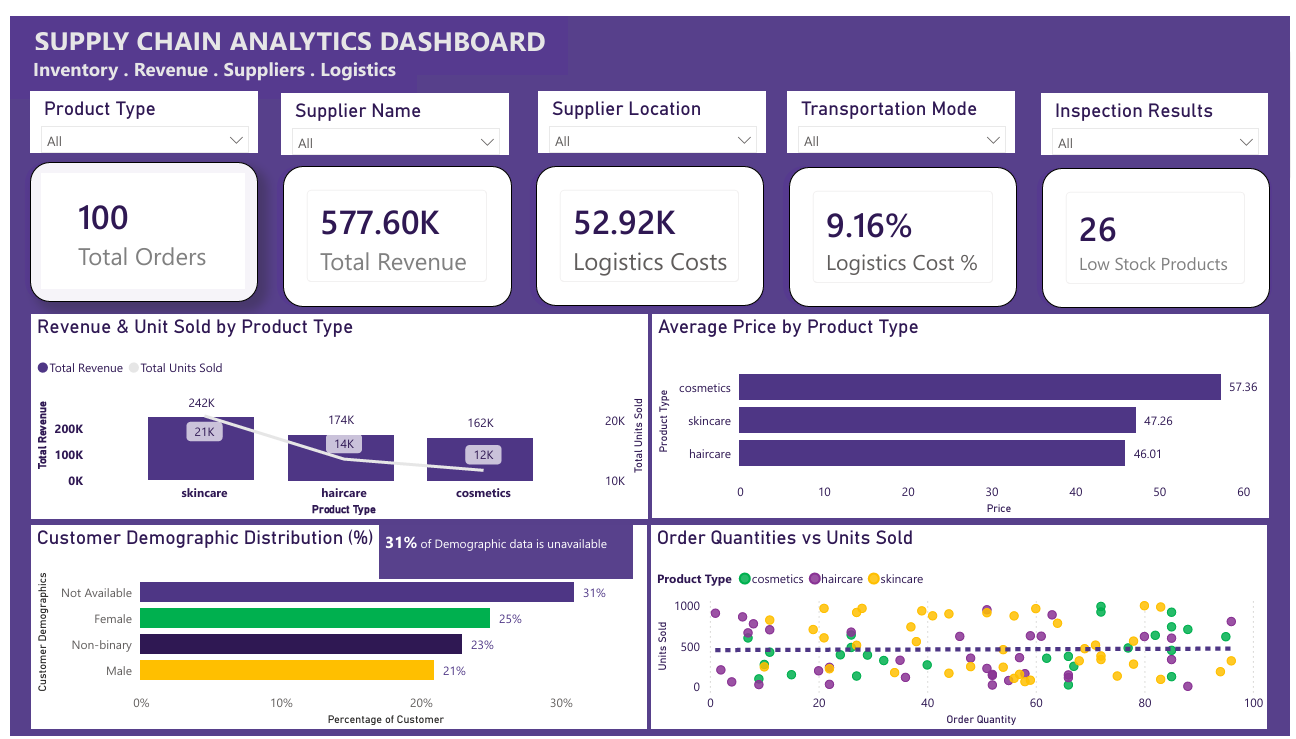

The page's visual inventory and layout, read from the dashboard file:
{"tool":"powerbi","page":{"name":"Executive Overview","canvas":[1280,720],"ordinal":0},"visuals":[{"type":"slicer","fields":{"Values":["supplychainanalytics supply_chain_data.ProductType"]},"box":[20.1,75.3,227.8,62.3],"z":0,"group":"g2"},{"type":"group","id":"g1","title":"Group 1","box":[14.2,145.4,1246.5,146],"z":0},{"type":"shape","box":[519.4,151.2,235,140.2],"z":500,"group":"g1"},{"type":"textbox","box":[0,0,557.9,58.6],"z":1000},{"type":"slicer","fields":{"Values":["supplychainanalytics supply_chain_data.SupplierName"]},"box":[271.3,77.2,227.8,62.3],"z":1000,"group":"g2"},{"type":"textbox","box":[0,34.2,406.6,48.8],"z":2000},{"type":"slicer","fields":{"Values":["supplychainanalytics supply_chain_data.SupplierLocation"]},"box":[528.3,75.3,227.8,62.3],"z":2000,"group":"g2"},{"type":"shape","box":[1025.7,151.2,235,140.2],"z":2000,"group":"g1"},{"type":"group","id":"g2","title":"Group 2","box":[20.1,75.3,1238.5,64.3],"z":3000},{"type":"slicer","fields":{"Values":["supplychainanalytics supply_chain_data.TransportationMode"]},"box":[777.6,75.3,227.8,62.3],"z":3000,"group":"g2"},{"type":"shape","box":[266.1,149.9,235.2,140.5],"z":3000,"group":"g1"},{"type":"slicer","fields":{"Values":["supplychainanalytics supply_chain_data.InspectionResults"]},"box":[1030.7,77.2,227.8,62.3],"z":4000,"group":"g2"},{"type":"shape","box":[772.7,149.8,235.2,140.5],"z":4000,"group":"g1"},{"type":"lineClusteredColumnComboChart","title":" Revenue & Unit Sold by Product Type","fields":{"Category":["supplychainanalytics supply_chain_data.ProductType"],"Y":["supplychainanalytics supply_chain_data.Total Revenue"],"Y2":["supplychainanalytics supply_chain_data.Total Units Sold"]},"box":[21.1,297.7,616.5,204.9],"z":4000},{"type":"shape","box":[14.2,145.4,235.2,140.5],"z":5000,"group":"g1"},{"type":"clusteredBarChart","title":"Customer Demographic Distribution  (%)","fields":{"Category":["supplychainanalytics supply_chain_data.CustomerDemographics"],"Y":["supplychainanalytics supply_chain_data.Customer Demographic %"]},"box":[21.1,508.5,616,204],"z":5000},{"type":"scatterChart","title":"Order Quantities vs Units Sold","fields":{"X":["Avg(supplychainanalytics supply_chain_data.OrderQuantities)"],"Series":["supplychainanalytics supply_chain_data.ProductType"],"Category":["supplychainanalytics supply_chain_data.SKU"],"Y":["Avg(supplychainanalytics supply_chain_data.NumProductsSold)"]},"box":[640.9,509.1,616.5,204],"z":6000},{"type":"clusteredBarChart","title":"Average Price by Product Type","fields":{"Category":["supplychainanalytics supply_chain_data.ProductType"],"Y":["Avg(supplychainanalytics supply_chain_data.Price)"]},"box":[642.5,297.7,616.5,204],"z":7000},{"type":"textbox","box":[369.2,509.1,253.7,53.7],"z":10000},{"type":"cardVisual","fields":{"Data":["supplychainanalytics supply_chain_data.Total Orders"]},"box":[19.4,145.4,228,140.5],"z":12500,"group":"g1"},{"type":"cardVisual","fields":{"Data":["supplychainanalytics supply_chain_data.Total Revenue"]},"box":[272.6,149.9,228.7,140.5],"z":13000,"group":"g1"},{"type":"cardVisual","fields":{"Data":["supplychainanalytics supply_chain_data.Logistics Cost %"]},"box":[777.9,150.5,228,140],"z":13500,"group":"g1"},{"type":"cardVisual","fields":{"Data":["supplychainanalytics supply_chain_data.Low Stock Products"]},"box":[1031.5,151.2,227.8,140.2],"z":14000,"group":"g1"},{"type":"cardVisual","fields":{"Data":["Sum(supplychainanalytics supply_chain_data.LogisticsCosts)"]},"box":[525.3,149.3,227.8,140.2],"z":14500,"group":"g1"}]}

Visuals, with their boxes in screenshot pixels (x1, y1, x2, y2), scaled from the page's 1280x720 canvas onto the 1296x739 screenshot:
slicer - supplychainanalytics supply_chain_data.ProductType: box=[20, 77, 251, 141]
"Group 1" group: box=[14, 149, 1276, 299]
shape: box=[526, 155, 764, 299]
textbox: box=[0, 0, 565, 60]
slicer - supplychainanalytics supply_chain_data.SupplierName: box=[275, 79, 505, 143]
textbox: box=[0, 35, 412, 85]
slicer - supplychainanalytics supply_chain_data.SupplierLocation: box=[535, 77, 766, 141]
shape: box=[1039, 155, 1276, 299]
"Group 2" group: box=[20, 77, 1274, 143]
slicer - supplychainanalytics supply_chain_data.TransportationMode: box=[787, 77, 1018, 141]
shape: box=[269, 154, 508, 298]
slicer - supplychainanalytics supply_chain_data.InspectionResults: box=[1044, 79, 1274, 143]
shape: box=[782, 154, 1020, 298]
" Revenue & Unit Sold by Product Type" lineClusteredColumnComboChart: box=[21, 306, 646, 516]
shape: box=[14, 149, 253, 293]
"Customer Demographic Distribution  (%)" clusteredBarChart: box=[21, 522, 645, 731]
"Order Quantities vs Units Sold" scatterChart: box=[649, 523, 1273, 732]
"Average Price by Product Type" clusteredBarChart: box=[651, 306, 1275, 515]
textbox: box=[374, 523, 631, 578]
cardVisual - supplychainanalytics supply_chain_data.Total Orders: box=[20, 149, 250, 293]
cardVisual - supplychainanalytics supply_chain_data.Total Revenue: box=[276, 154, 508, 298]
cardVisual - supplychainanalytics supply_chain_data.Logistics Cost %: box=[788, 154, 1018, 298]
cardVisual - supplychainanalytics supply_chain_data.Low Stock Products: box=[1044, 155, 1275, 299]
cardVisual - Sum(supplychainanalytics supply_chain_data.LogisticsCosts): box=[532, 153, 763, 297]
